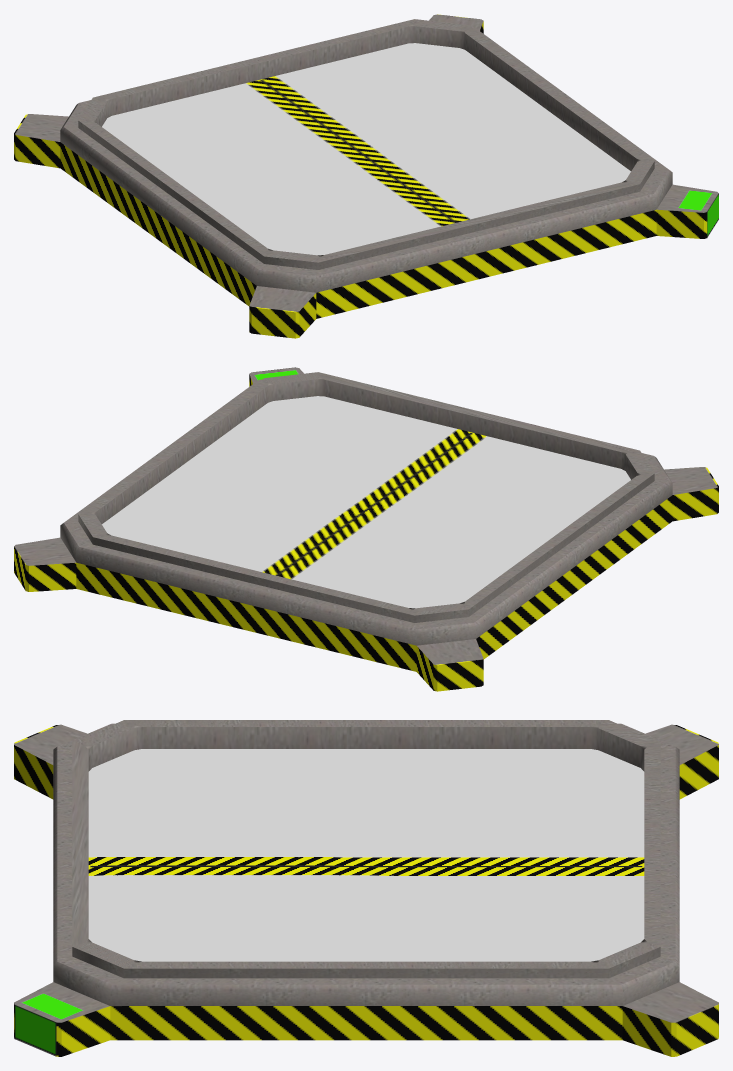
Rendered from asteroid-hatch-port.fbx.
The picture shows the model from 3 angles, top to bottom: view 1: azimuth 30°, elevation 25°; view 2: azimuth 150°, elevation 25°; view 3: azimuth 270°, elevation 25°; orthographic projection. The views are drawn at different scales.
Parts seen in each view (by area): view 1: asteroid-hatch-port; view 2: asteroid-hatch-port; view 3: asteroid-hatch-port.
Part boxes in pixels (x1,y1,x2,y2): asteroid-hatch-port: (14, 14, 718, 338); asteroid-hatch-port: (14, 367, 718, 691); asteroid-hatch-port: (14, 720, 718, 1056).
Size of what is drawn, in the model's own units: 6.53 by 0.7209 by 6.53.
1 material, 1 textured.
